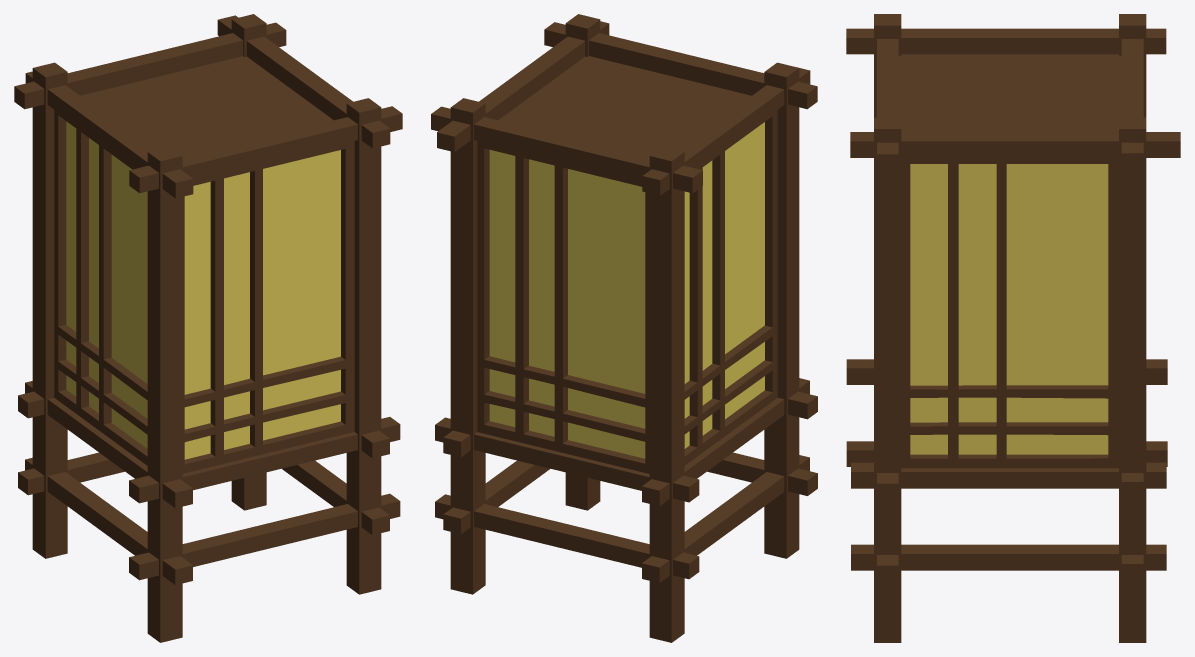
The model's file is Lantern014.fbx.
3 renders of one model, left to right at view 1: azimuth 30°, elevation 25°; view 2: azimuth 150°, elevation 25°; view 3: azimuth 270°, elevation 25°, orthographic. The views are drawn at different scales.
Parts seen in each view (by area): view 1: Lantern014; view 2: Lantern014; view 3: Lantern014.
Boxes of the visible parts, box(x1,y1,x2,y2) form: Lantern014: box(14, 14, 402, 642); Lantern014: box(431, 14, 817, 642); Lantern014: box(846, 14, 1180, 642).
Bounding box in the file's own units: 83.41 × 146 × 86.02.
